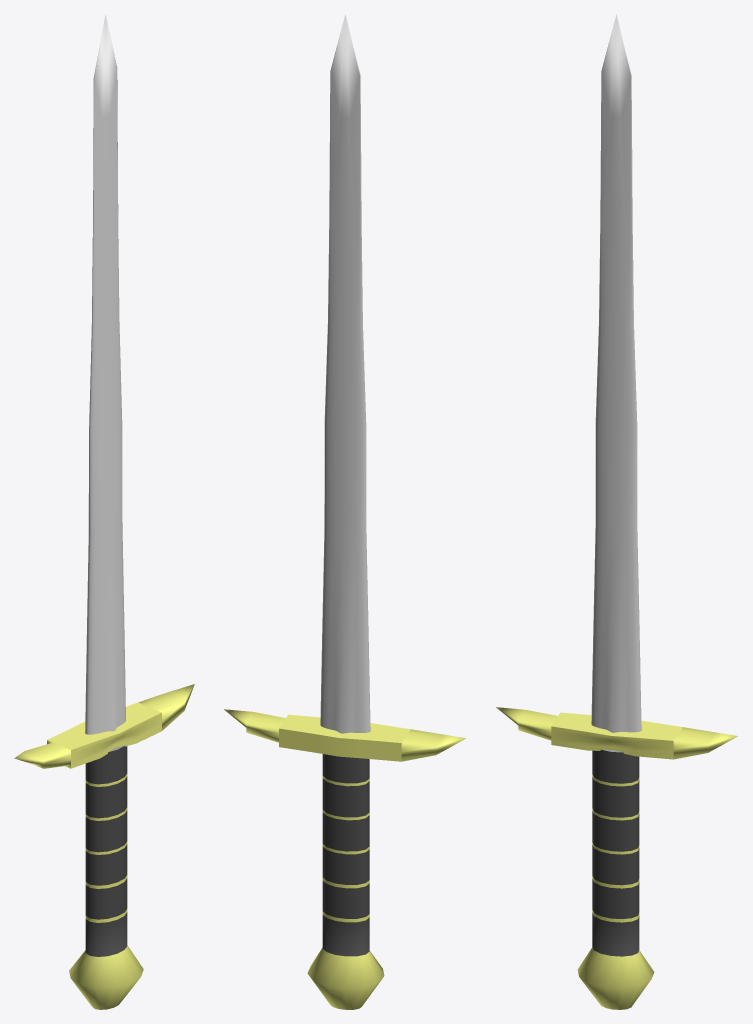
Rendered from sword.fbx.
3 views of the same model, side by side, from view 1: azimuth 30°, elevation 25°; view 2: azimuth 150°, elevation 25°; view 3: azimuth 330°, elevation 25° (orthographic).
Parts seen in each view (by area): view 1: pCone1, pCylinder1, pCube1; view 2: pCone1, pCylinder1, pCube1; view 3: pCone1, pCylinder1, pCube1.
Part boxes in pixels (x1,y1,x2,y2): pCone1: (85, 15, 125, 734); pCylinder1: (69, 745, 143, 1009); pCube1: (14, 684, 194, 768); pCone1: (320, 14, 370, 733); pCylinder1: (307, 754, 384, 1009); pCube1: (224, 709, 466, 761); pCone1: (591, 14, 641, 732); pCylinder1: (577, 749, 654, 1009); pCube1: (496, 707, 737, 759).
Size of the model in its own units: 3.13 by 13.95 by 0.9692.
